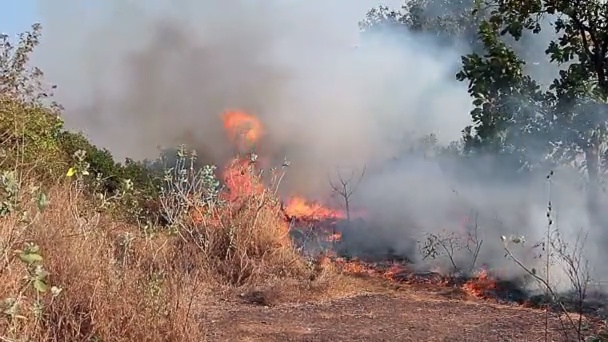fire: (286, 201, 327, 216), (66, 169, 73, 176), (81, 171, 88, 174)
